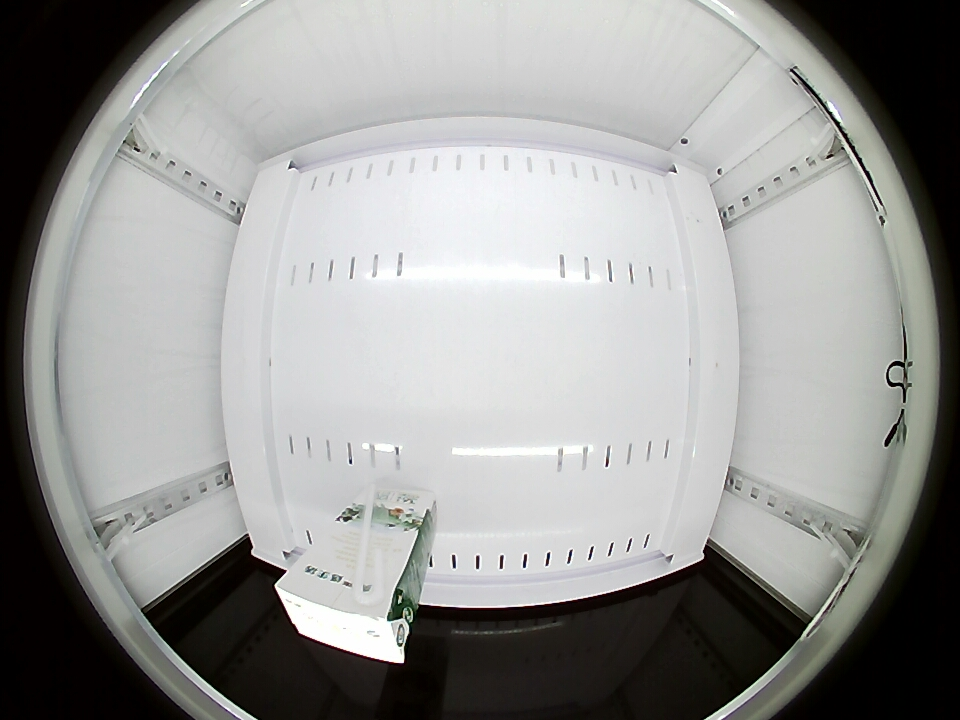jindian: (275, 558, 412, 664)
